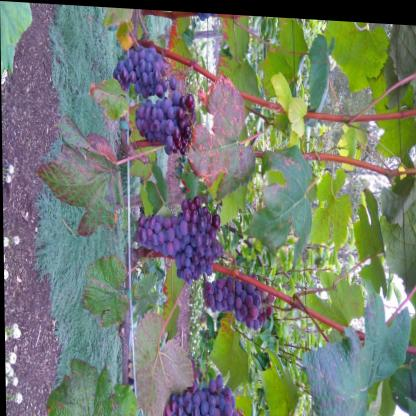--: (128, 170, 232, 297), (127, 59, 206, 180), (192, 263, 277, 333), (110, 17, 180, 101), (153, 368, 235, 416)
